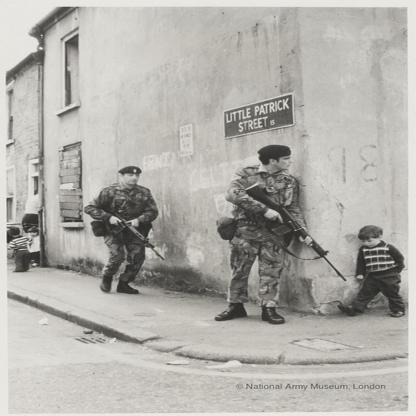face: (277, 154, 294, 171), (124, 172, 140, 185), (363, 238, 379, 248), (30, 232, 37, 237)
